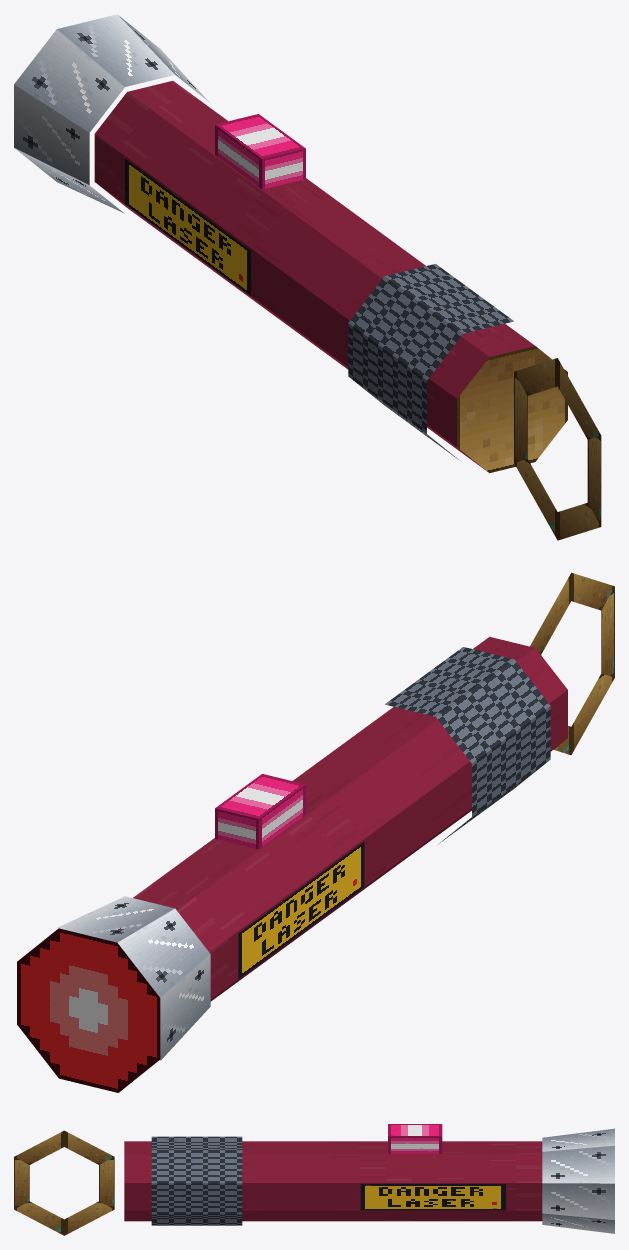
The model's file is red_dot.glb.
3 renders of one model, top to bottom at view 1: azimuth 30°, elevation 25°; view 2: azimuth 150°, elevation 25°; view 3: azimuth 270°, elevation 25°, orthographic. The views are drawn at different scales.
Visible parts, largest first — view 1: Body, Button; view 2: Body, Lens, Button; view 3: Body, Button.
Boxes of the visible parts, x1,y1,x2,y2 form: Body: (14,14,601,540); Button: (215,114,305,189); Body: (57,572,614,1060); Lens: (17,928,160,1092); Button: (215,774,305,849); Body: (14,1128,614,1235); Button: (388,1124,442,1153).
Bounding box in the file's own units: 0.0536 × 0.064 × 0.3307.
Materials: 1 (1 with a texture image).
